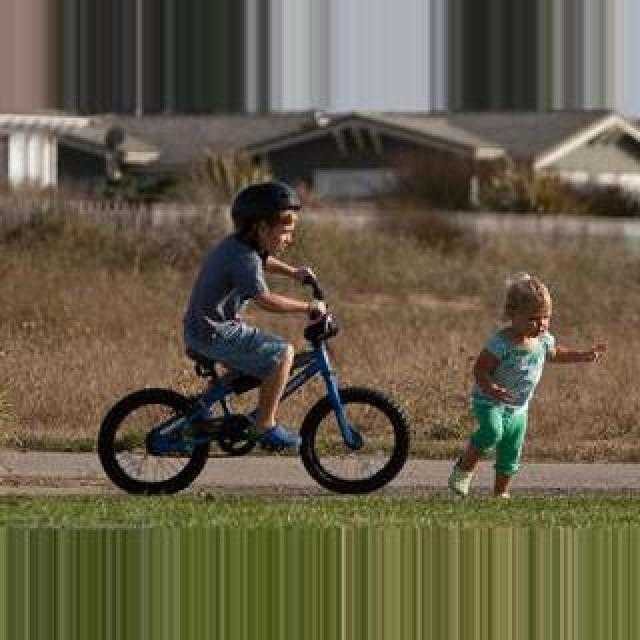Emergency Vehicles-Bike: (98, 292, 418, 498)
MC-Bike: (182, 180, 330, 454), (446, 276, 608, 502)
Person: (97, 292, 417, 498)
